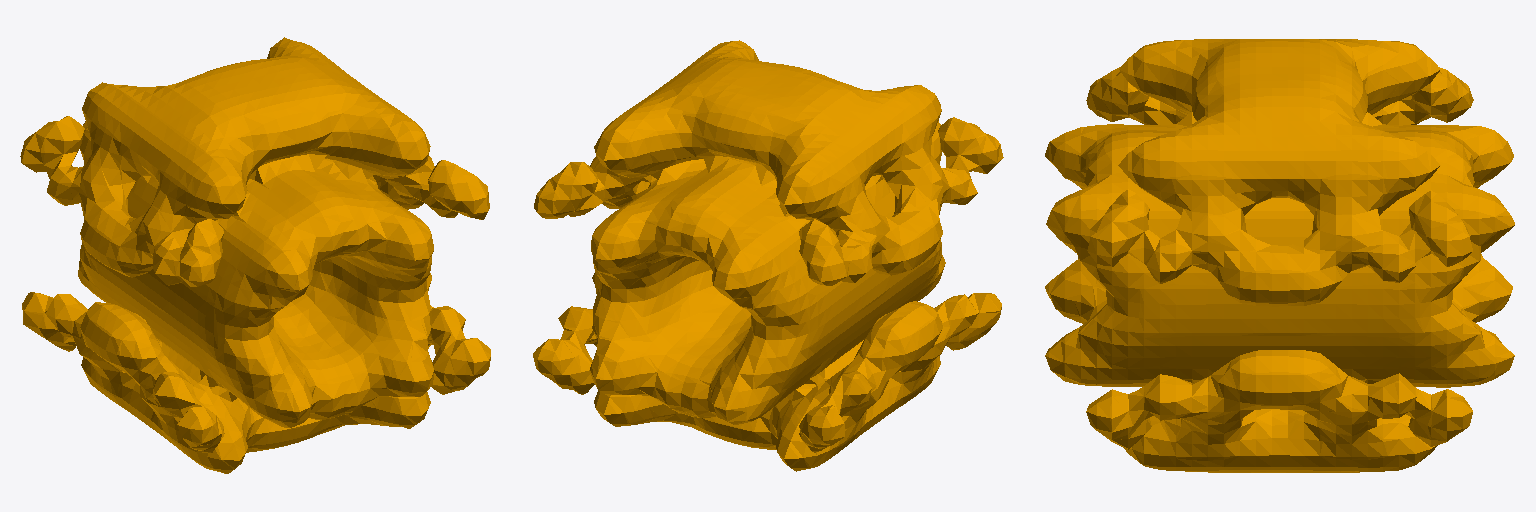
robot.urdf — J24_0:
<?xml version="1.0"?>
<robot name="J24_0">
  <link name="base_link">
    <visual>
      <geometry>
        <mesh filename="../../../../meshes/egad/train/J24_0.obj" />
      </geometry>
    </visual>
  </link>
</robot>

--- Render facts (derived) ---
3 views of the same robot in one strip: view 1: azimuth 30°, elevation 25°; view 2: azimuth 150°, elevation 25°; view 3: azimuth 270°, elevation 25° (orthographic).
Model J24_0 with 1 links and 0 joints (none), rooted at base_link, posed every joint at zero.
Links seen in each view (by area): view 1: base_link; view 2: base_link; view 3: base_link.
Link boxes in pixels (x1=…): base_link: x1=20, y1=37, x2=490, y2=473; base_link: x1=533, y1=40, x2=1003, y2=471; base_link: x1=1045, y1=39, x2=1514, y2=472.
Size in the robot's own frame: 0.06 by 0.0697 by 0.0617 metres.
Meshes: 1 distinct files referenced, 1 mesh visuals loaded (1 OBJ).